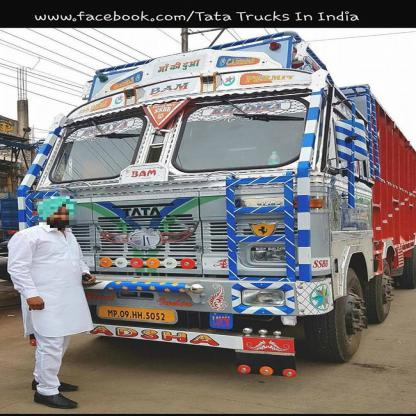truck: (22, 44, 413, 377)
